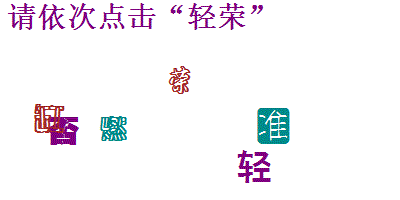text: (256, 107, 290, 145), (236, 150, 273, 184), (32, 103, 67, 135), (47, 115, 79, 146), (99, 115, 128, 143), (168, 65, 191, 95)
